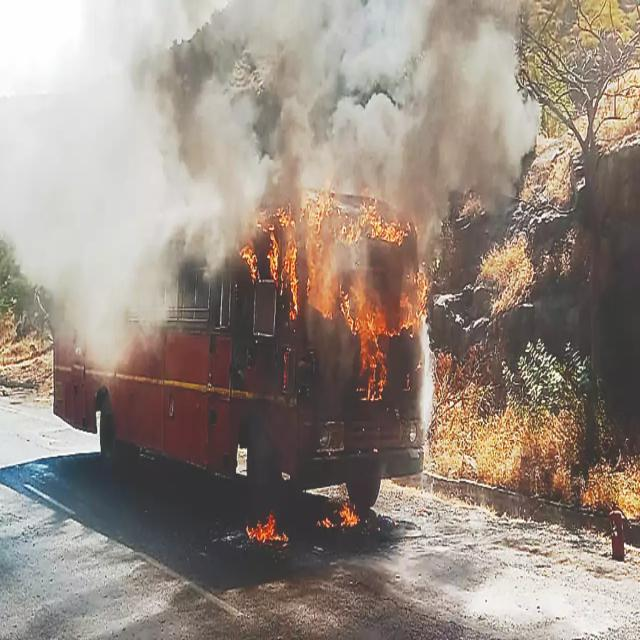Fire: (300, 182, 428, 404), (239, 204, 298, 316), (246, 511, 289, 544), (317, 502, 359, 528)
Smoke: (0, 0, 539, 475)
